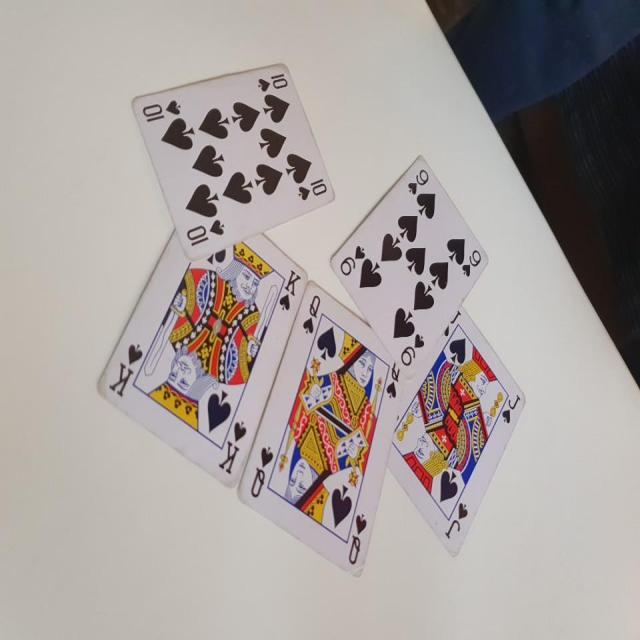10 of spades: (130, 55, 340, 264)
9 of spades: (326, 149, 492, 386)
jack of spades: (382, 304, 535, 572)
king of spades: (92, 200, 308, 500)
queen of spades: (236, 283, 406, 586)
